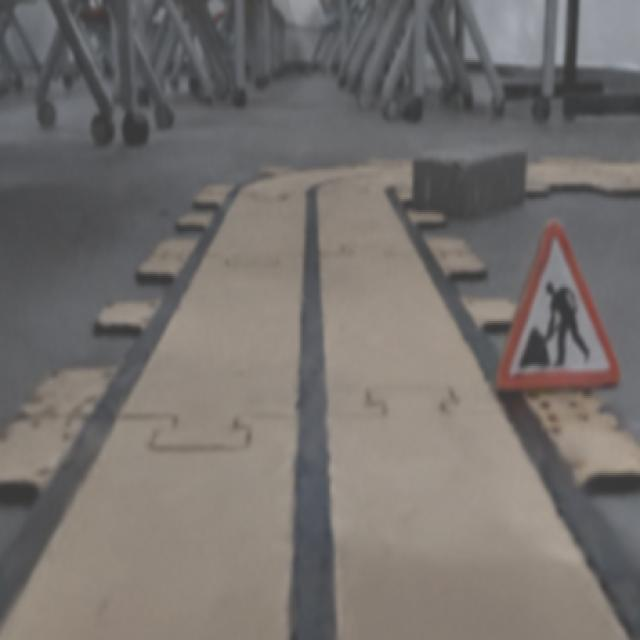WORKERS: (495, 223, 618, 389)
